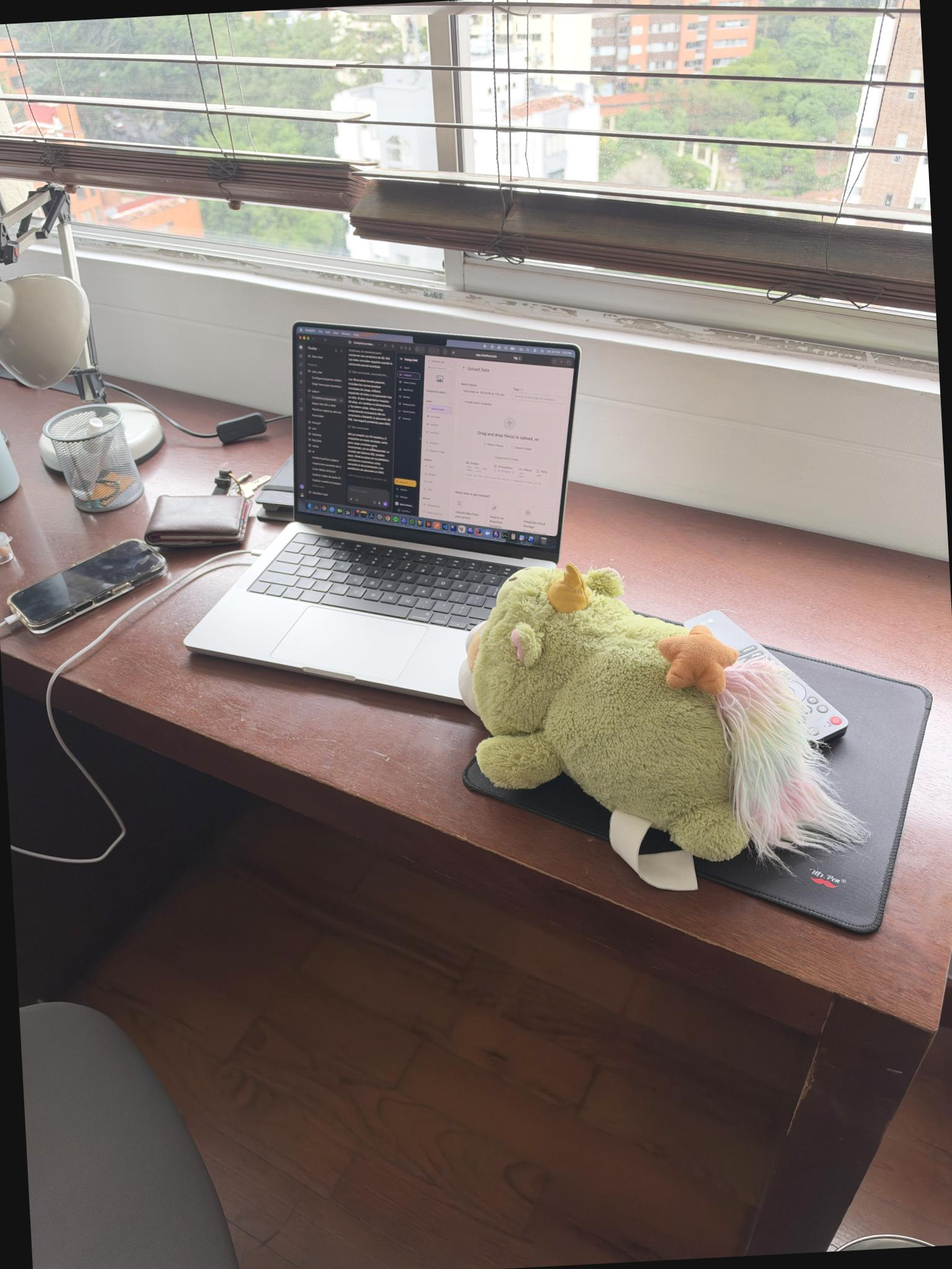peluche_martin: (450, 547, 872, 876)
